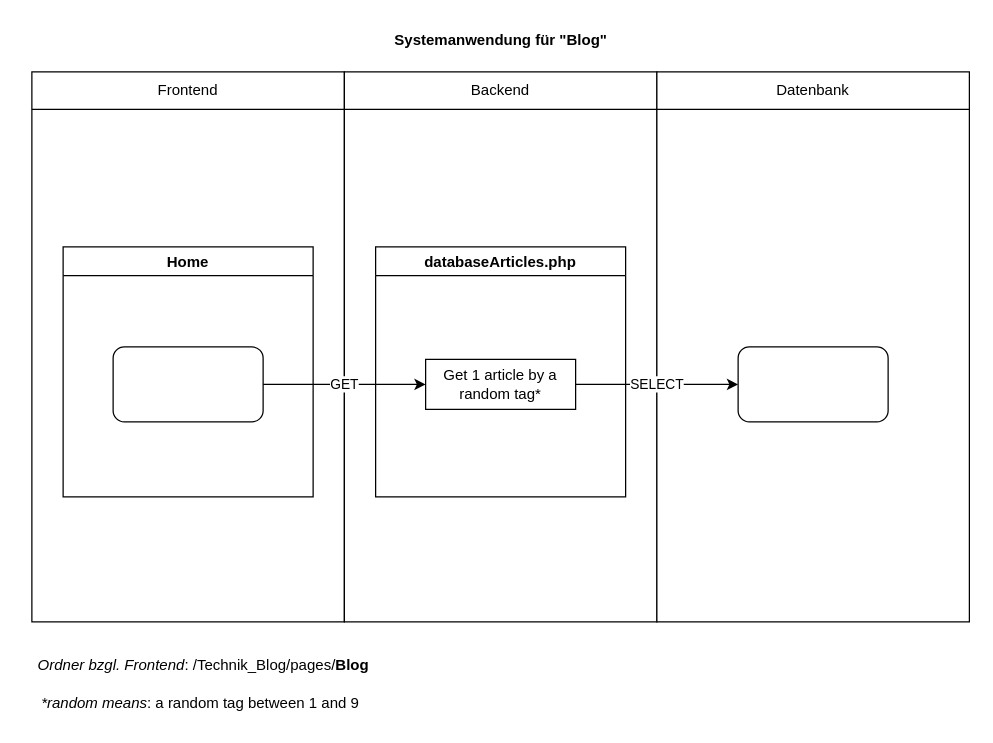
This 993x743 diagram has some shape labels left out. Each missing label, with the centre of its shape:
"Articles" goes at pixel 187 384.
"database Tabelle" goes at pixel 812 384.
